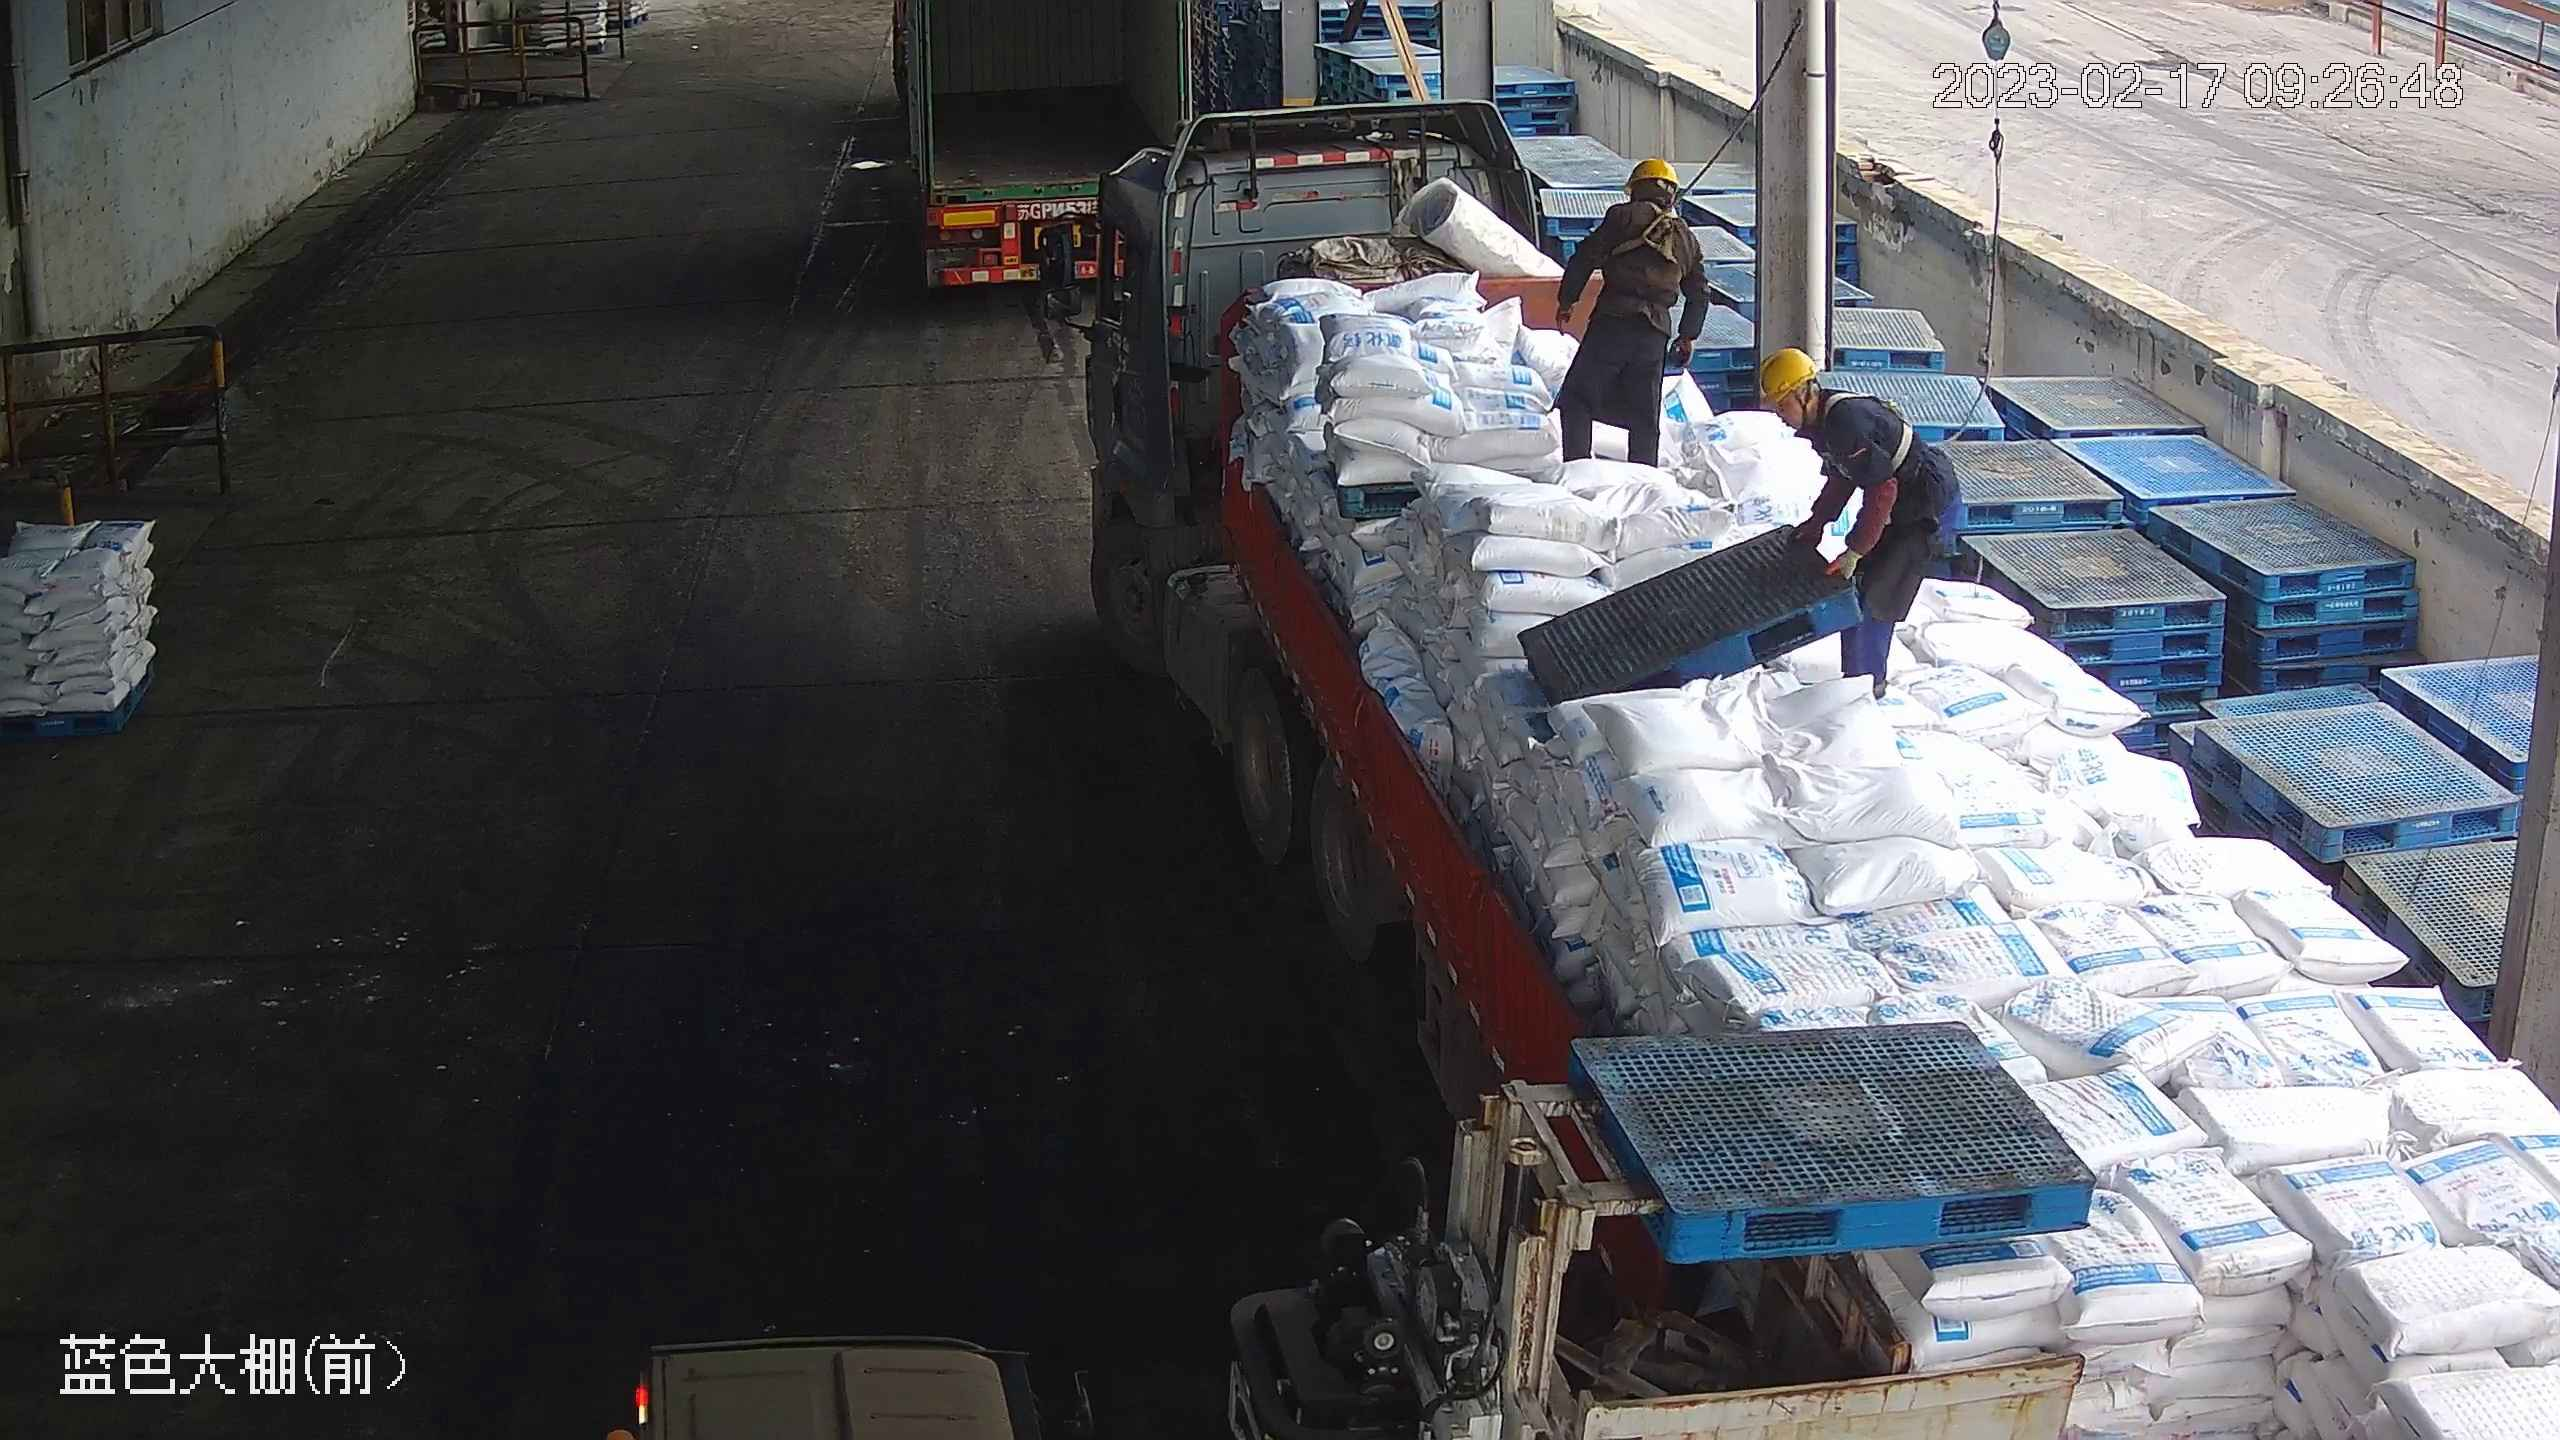belt: (1814, 381, 1917, 472), (1614, 196, 1689, 270)
head: (1755, 345, 1876, 453), (1594, 155, 1697, 247)
helmet: (1758, 345, 1819, 403), (1629, 155, 1678, 192)
people: (1756, 345, 1954, 700), (1547, 153, 1707, 472)
truck: (1050, 92, 2552, 1440), (887, 1, 1195, 296)
